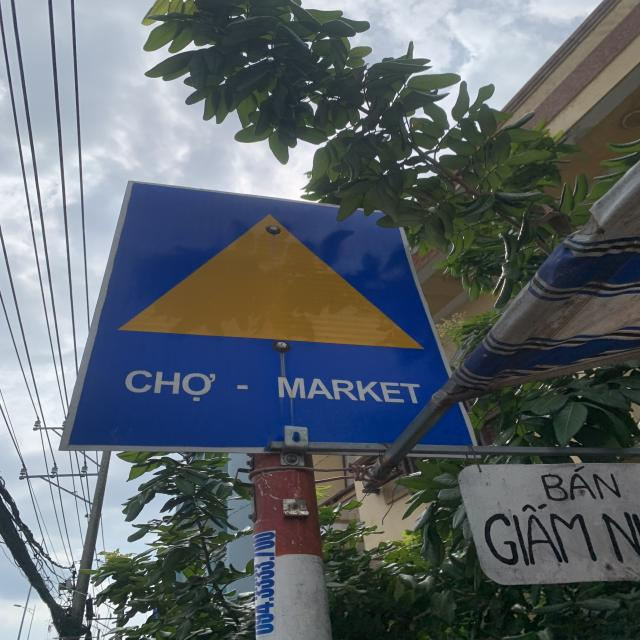Cho_Quay_Xe: (58, 175, 474, 451)
